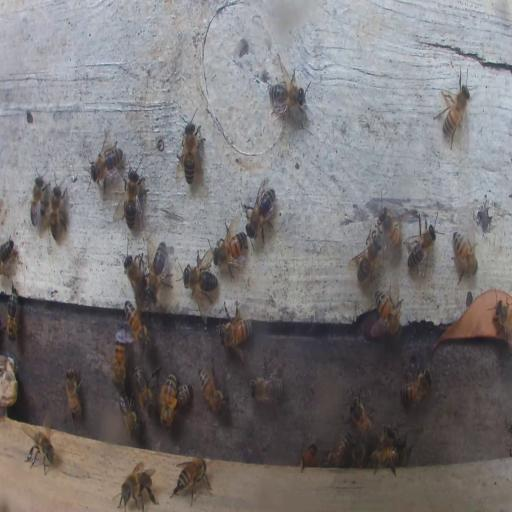bee: (436, 78, 473, 146), (243, 177, 277, 245), (266, 69, 308, 118), (405, 216, 439, 276), (176, 113, 203, 185), (118, 461, 156, 511), (348, 230, 384, 282), (212, 227, 248, 275), (172, 456, 210, 501), (90, 140, 122, 192), (24, 424, 56, 473), (197, 365, 228, 415), (249, 361, 283, 405), (123, 162, 145, 230), (374, 286, 402, 335), (184, 256, 218, 296), (452, 230, 478, 281), (216, 313, 252, 349), (124, 302, 150, 350), (147, 243, 170, 297), (48, 181, 68, 241), (400, 369, 432, 406), (133, 365, 156, 416), (348, 394, 374, 437), (123, 253, 146, 300), (324, 431, 353, 467), (160, 372, 178, 430), (29, 173, 47, 229), (119, 390, 140, 437), (65, 366, 82, 423), (4, 283, 20, 341), (379, 208, 401, 250), (112, 334, 127, 388), (369, 446, 400, 470), (0, 237, 15, 275), (299, 442, 319, 467), (379, 427, 398, 449), (351, 442, 366, 467), (178, 384, 191, 410)
